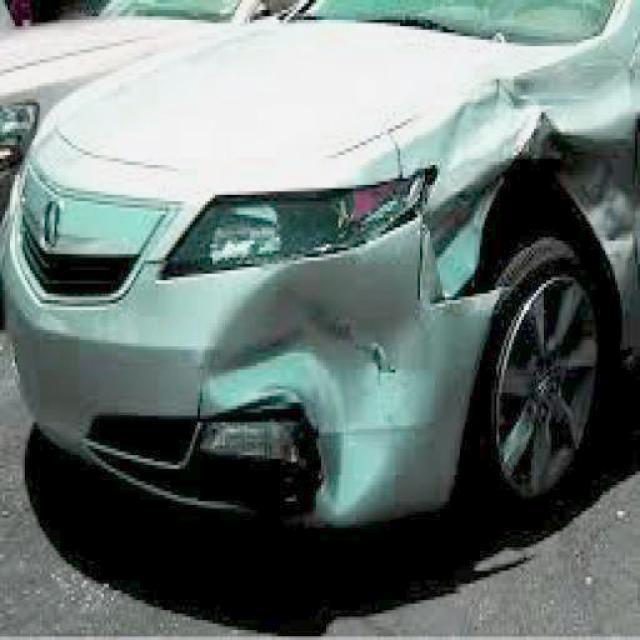car damage: (159, 29, 637, 525)
